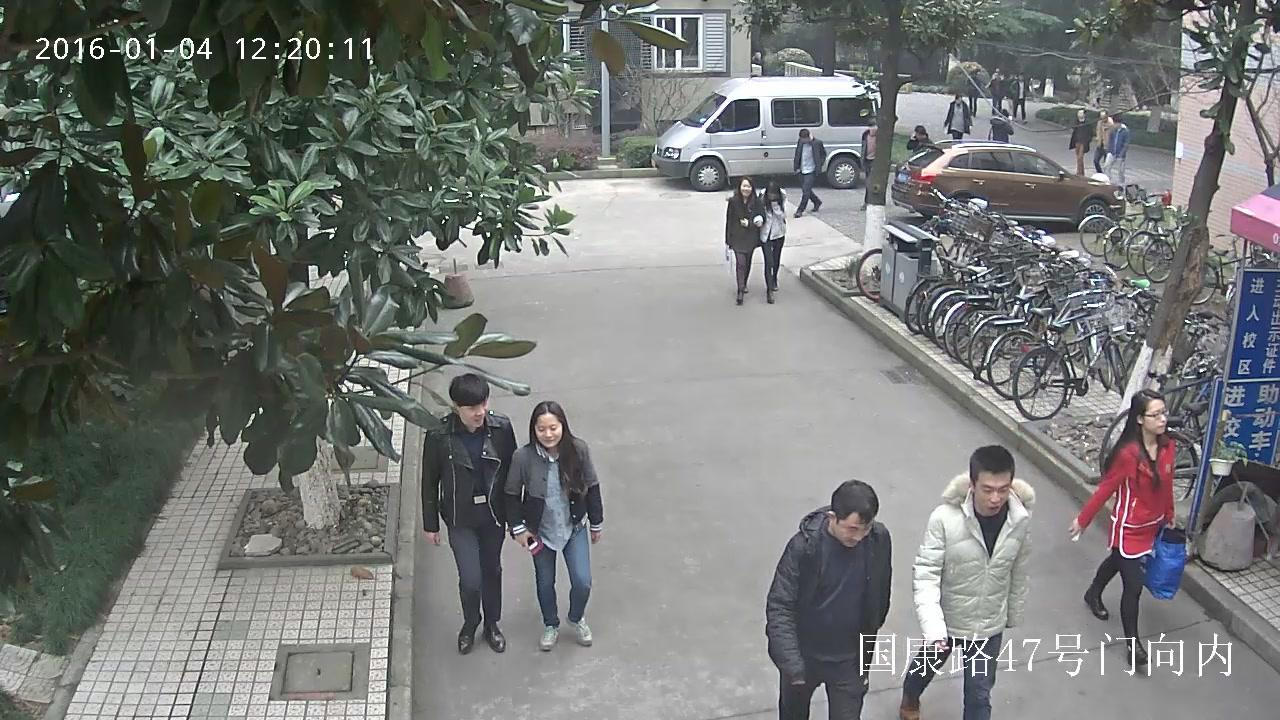person: (900, 445, 1037, 720), (1068, 388, 1188, 673), (767, 479, 892, 720), (420, 372, 518, 656), (505, 399, 605, 652), (724, 176, 765, 306), (757, 180, 787, 304), (792, 127, 826, 217), (860, 124, 882, 210), (1067, 107, 1093, 178), (1099, 115, 1126, 179), (1093, 110, 1114, 176), (943, 94, 972, 139), (1010, 70, 1028, 122), (988, 109, 1015, 143), (906, 124, 932, 153), (967, 65, 981, 118), (988, 71, 1005, 114)
